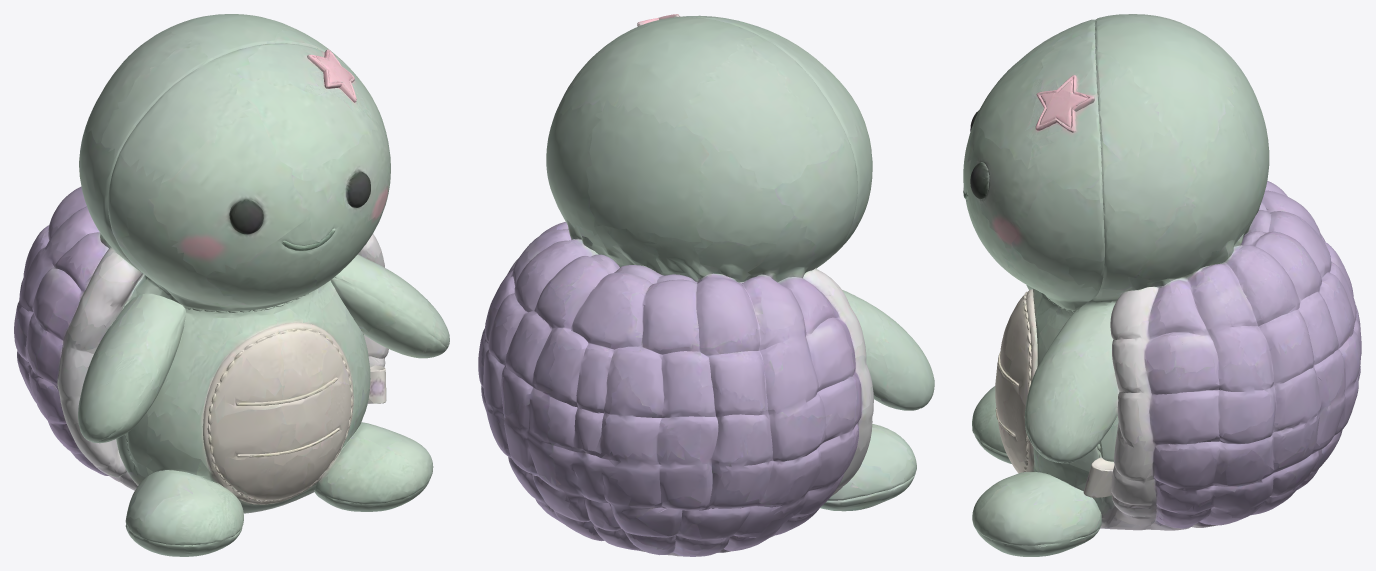
The model's file is turtle.gen.glb.
3 renders of one model, left to right at view 1: azimuth 30°, elevation 25°; view 2: azimuth 150°, elevation 25°; view 3: azimuth 270°, elevation 25°, orthographic. The views are drawn at different scales.
Visible parts, largest first — view 1: LOD0; view 2: LOD0; view 3: LOD0.
Part boxes in pixels (bbox=[...]): LOD0: bbox=[14, 14, 449, 556]; LOD0: bbox=[478, 14, 934, 556]; LOD0: bbox=[963, 14, 1361, 556].
Size of what is drawn, in the model's own units: 0.1666 by 0.1999 by 0.1549.
1 material, 1 textured.
